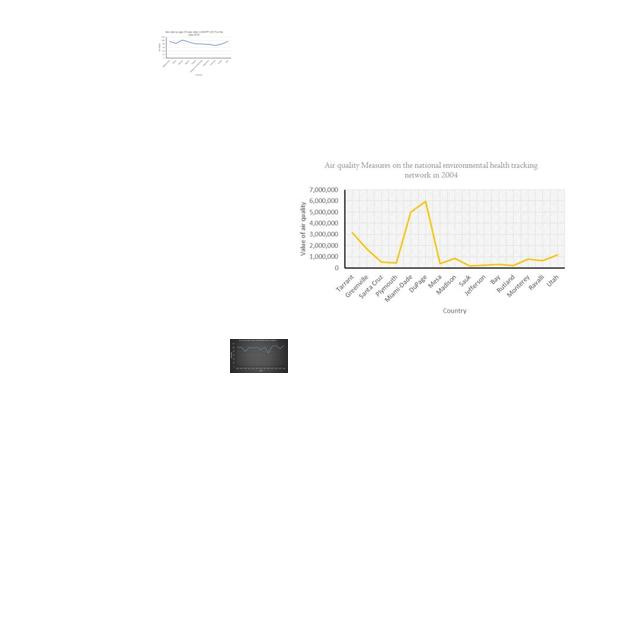Graph: (294, 156, 569, 318), (156, 30, 233, 76), (230, 339, 288, 373)
